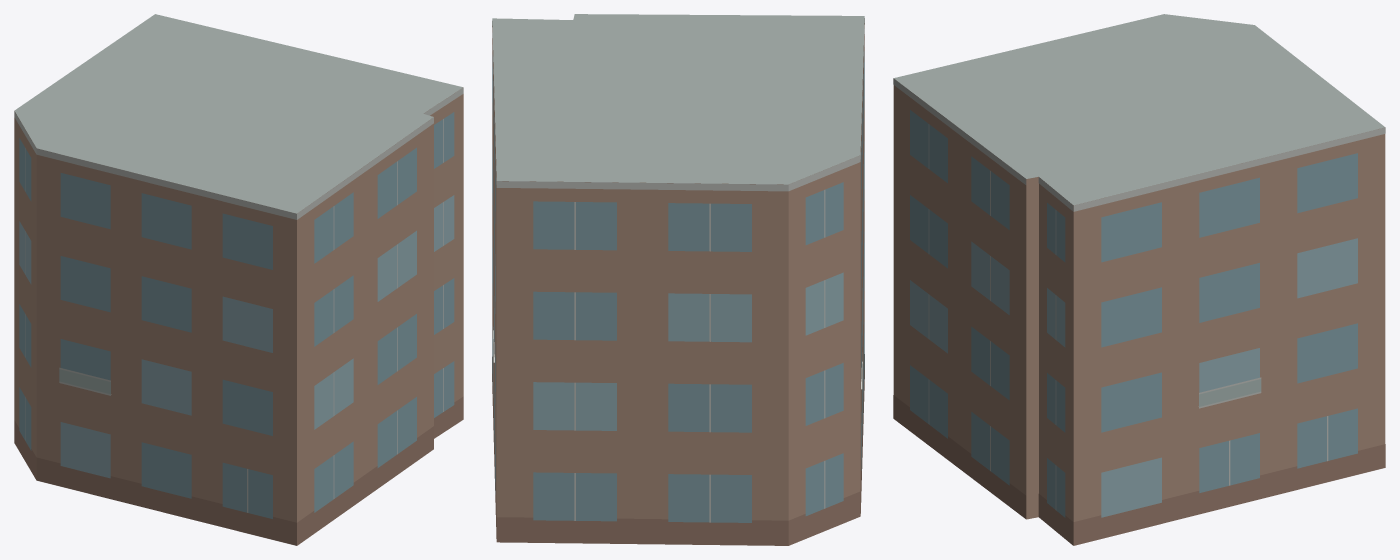
Rendered from survey-upis-32658722.glb.
3 views of the same model, side by side, from view 1: azimuth 30°, elevation 25°; view 2: azimuth 150°, elevation 25°; view 3: azimuth 270°, elevation 25° (orthographic). The views are drawn at different scales.
Visible parts, largest first — view 1: survey-upis-32658722.tmp; view 2: survey-upis-32658722.tmp; view 3: survey-upis-32658722.tmp.
Boxes of the visible parts, box(x1,y1,x2,y2) form: survey-upis-32658722.tmp: box(14, 14, 463, 545); survey-upis-32658722.tmp: box(492, 14, 864, 545); survey-upis-32658722.tmp: box(893, 14, 1385, 545).
Size of the model in its own units: 15.44 by 12.8 by 16.77.
